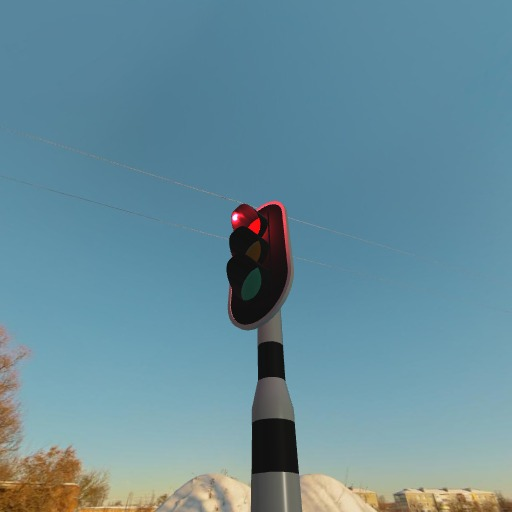Red_Light: (224, 199, 297, 331)
